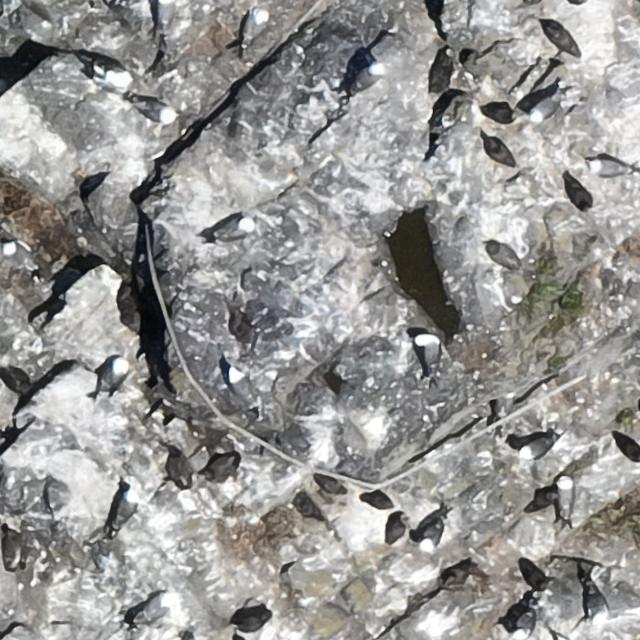umineko: (226, 366, 259, 414), (90, 54, 135, 89), (136, 590, 174, 625), (416, 333, 446, 375), (236, 8, 266, 47), (586, 579, 610, 625), (510, 609, 536, 640), (530, 94, 559, 120), (138, 100, 172, 120), (155, 3, 176, 35), (517, 438, 550, 458), (354, 64, 381, 88), (119, 489, 138, 523), (617, 436, 640, 463), (105, 361, 127, 388), (216, 220, 247, 239), (5, 242, 29, 266), (557, 479, 572, 516), (588, 160, 621, 176), (420, 524, 440, 550)
